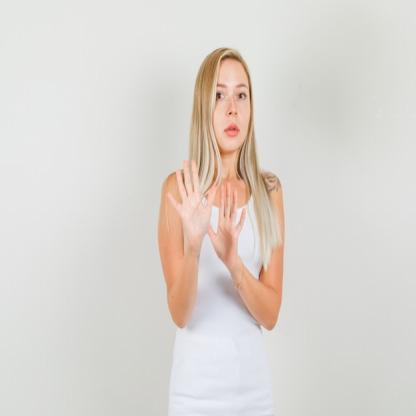stop: (164, 158, 218, 250), (206, 181, 247, 266)
